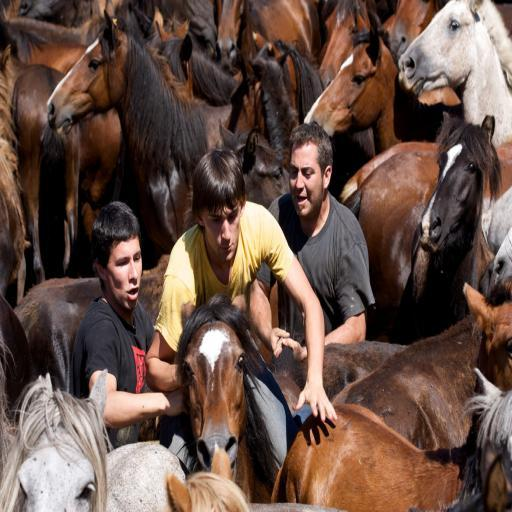Horse: (1, 0, 512, 512)
